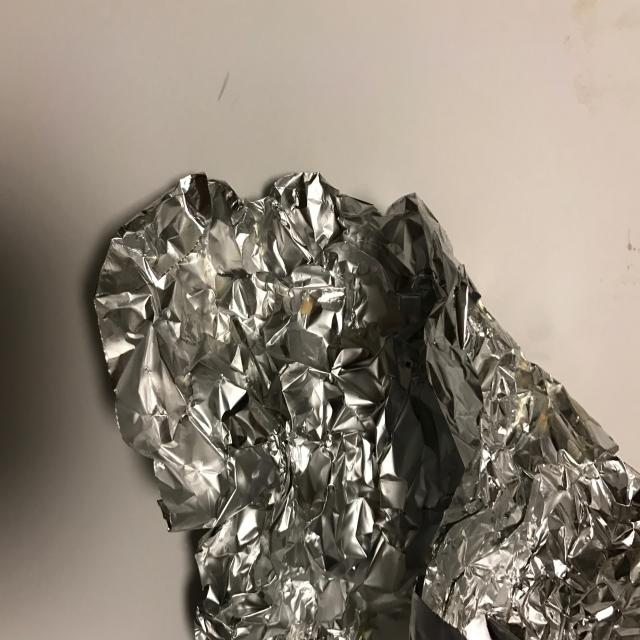metal: (93, 168, 640, 640)
